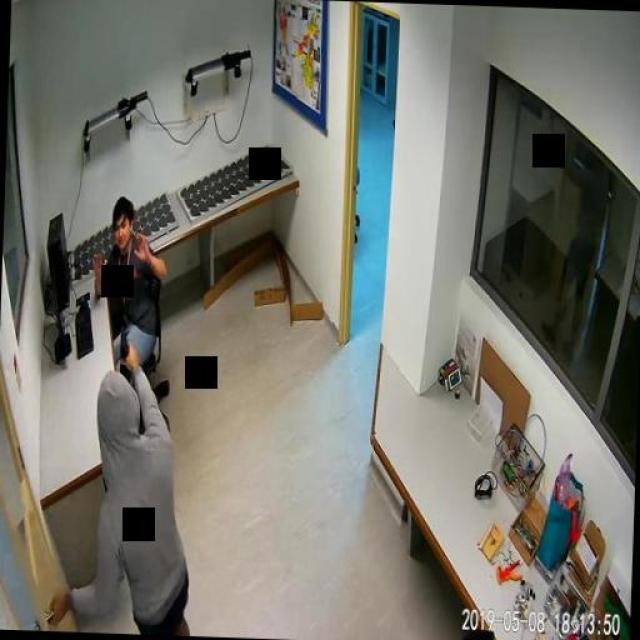gun: (118, 322, 138, 368)
